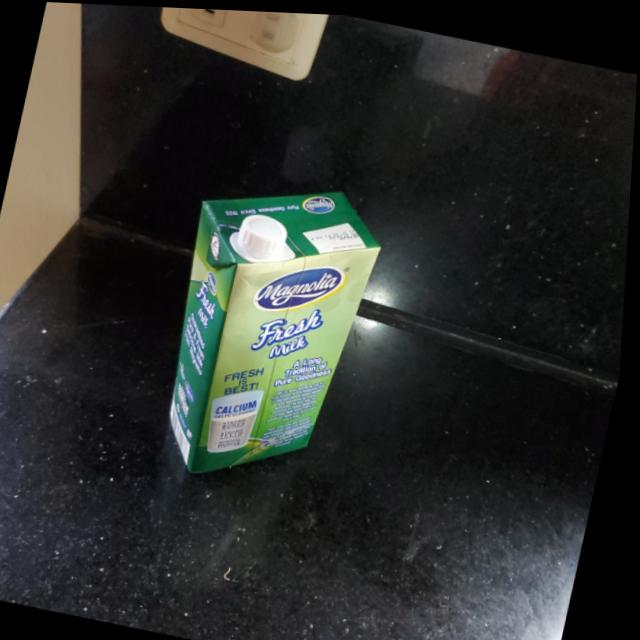milk: (148, 157, 400, 496)
